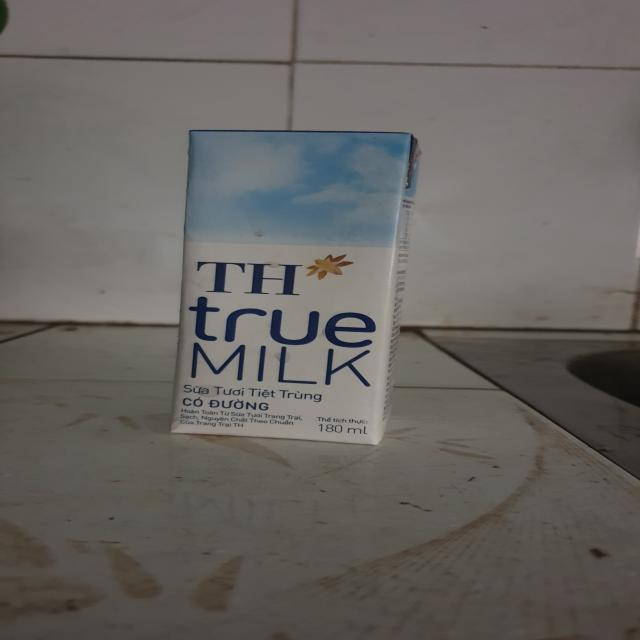TH: (163, 123, 427, 450)
